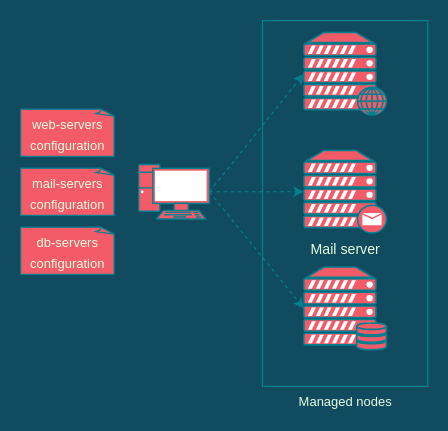
Some shapes in this 448 by 431 pixel diagram are drawn without their labels. The shapes that lost their labels are listed below. From the top down, each one's box as (x1, y1, x2, y2) in pixels, then its label:
(302, 31, 387, 116): Web server
(137, 163, 210, 220): Control node
(302, 265, 387, 350): Database server
